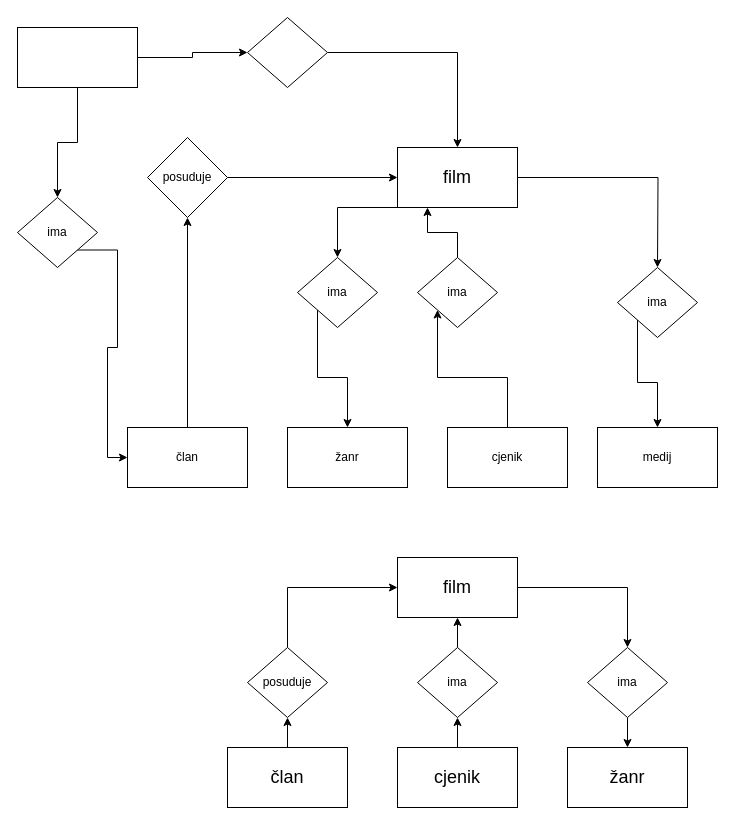
Some shapes in this 735 by 825 pixel diagram are drawn without their labels. Each missing label, with the centre of its shape:
"posudba" goes at (x=77, y=57).
"sadržava" goes at (x=287, y=52).
